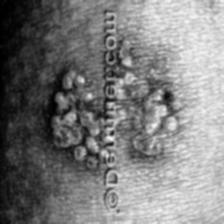Toxin: (116, 37, 176, 156), (50, 64, 104, 168)
